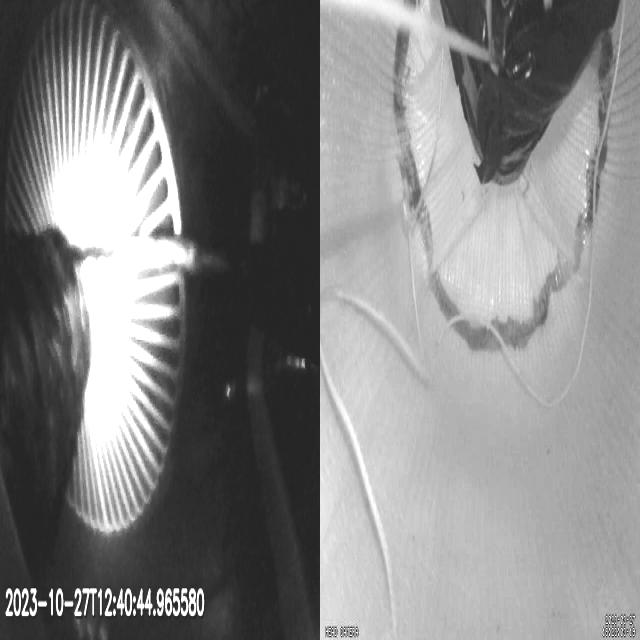red-circle: (391, 0, 616, 356)
